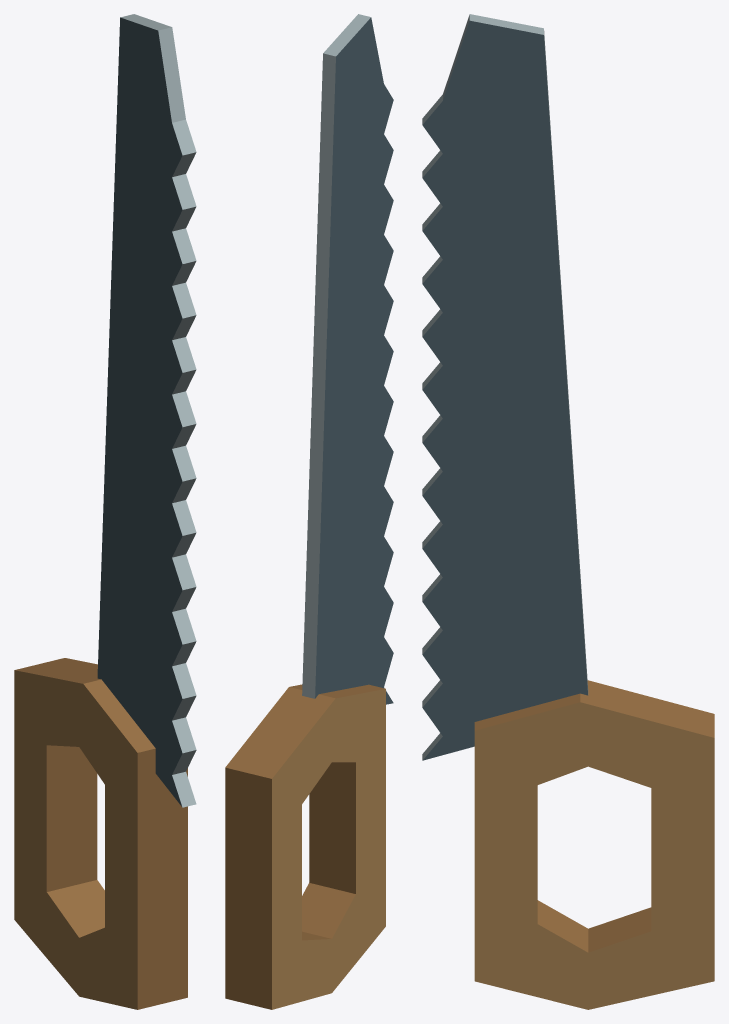
File: Saw.fbx
3 views of the same model, side by side, from view 1: azimuth 30°, elevation 25°; view 2: azimuth 150°, elevation 25°; view 3: azimuth 270°, elevation 25° (orthographic). The views are drawn at different scales.
Parts seen in each view (by area): view 1: Saw; view 2: Saw; view 3: Saw.
Part boxes in pixels (x1,y1,x2,y2): Saw: [14, 14, 196, 1009]; Saw: [225, 14, 393, 1009]; Saw: [422, 14, 714, 1009].
Size of the model in its own units: 3.6 by 68.5 by 18.5.
